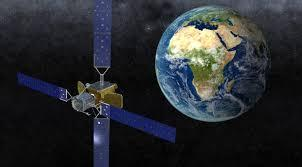antenna: (101, 91, 125, 110), (77, 79, 88, 97)
body: (71, 79, 122, 113)
solar: (99, 100, 181, 145), (15, 69, 69, 103), (92, 0, 114, 69), (92, 116, 111, 167)
